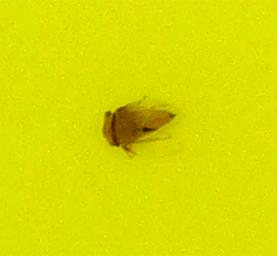Hemiptera: (100, 100, 177, 156)
